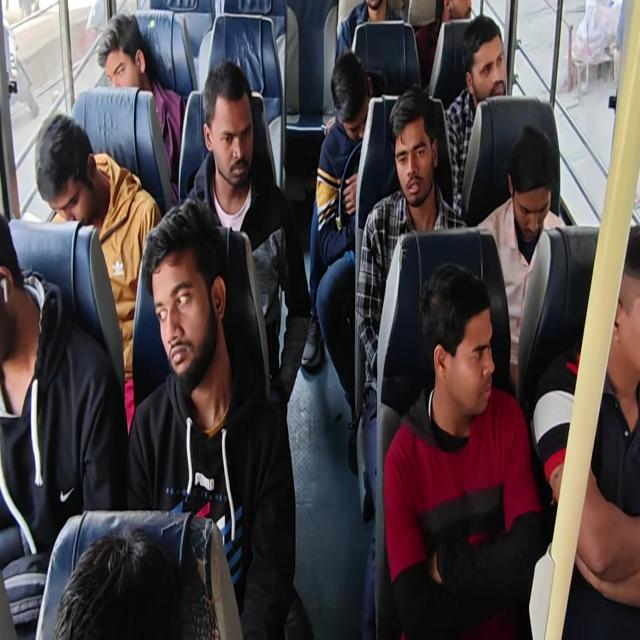person: (49, 525, 210, 640), (140, 192, 230, 382), (416, 264, 514, 427), (593, 216, 640, 413), (387, 89, 453, 214), (194, 64, 260, 187), (506, 126, 569, 239), (28, 116, 86, 234), (0, 213, 31, 388), (467, 13, 518, 112), (86, 17, 152, 89), (325, 50, 372, 138), (441, 0, 480, 31), (360, 3, 393, 26)
